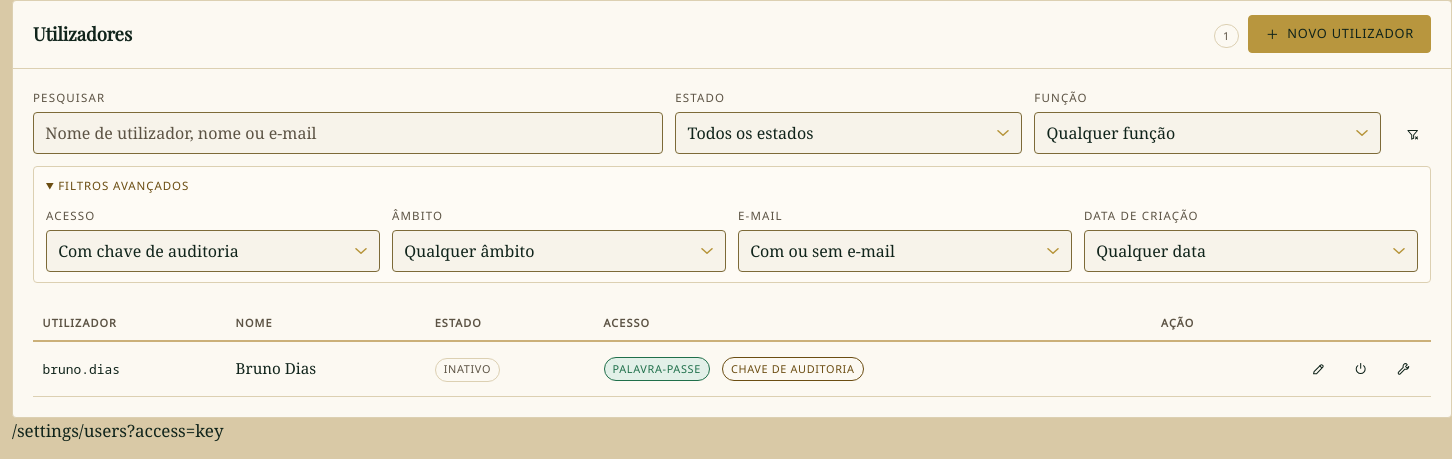
Scenario: UsersList filters (t89) — Arquivo idiom, state carried in the URL › filters on the credential facts the list payload can actually answer
Expected: the text "bruno.dias" is shown, [43,360,120,378]
Expected: the text "amelia.marques" is not shown
Select "Sem palavra-passe" in the dropdown labelled "Acesso" at coordinates (213, 251), box [46,230,380,272]
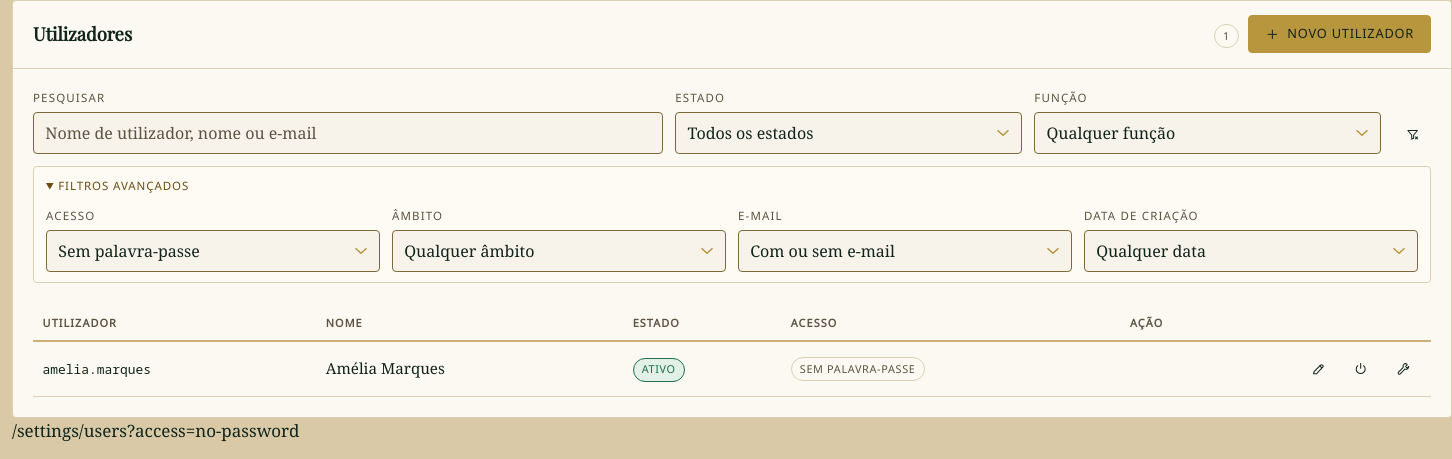
Now the text "amelia.marques" is shown, box [43,360,151,378]
Now the text "bruno.dias" is gone
Now the text named "location" reads "/settings/users?access=no-password", box [12,419,300,442]
Select "Com frase de recuperação" in the dropdown labelled "Acesso" at coordinates (213, 251), box [46,230,380,272]
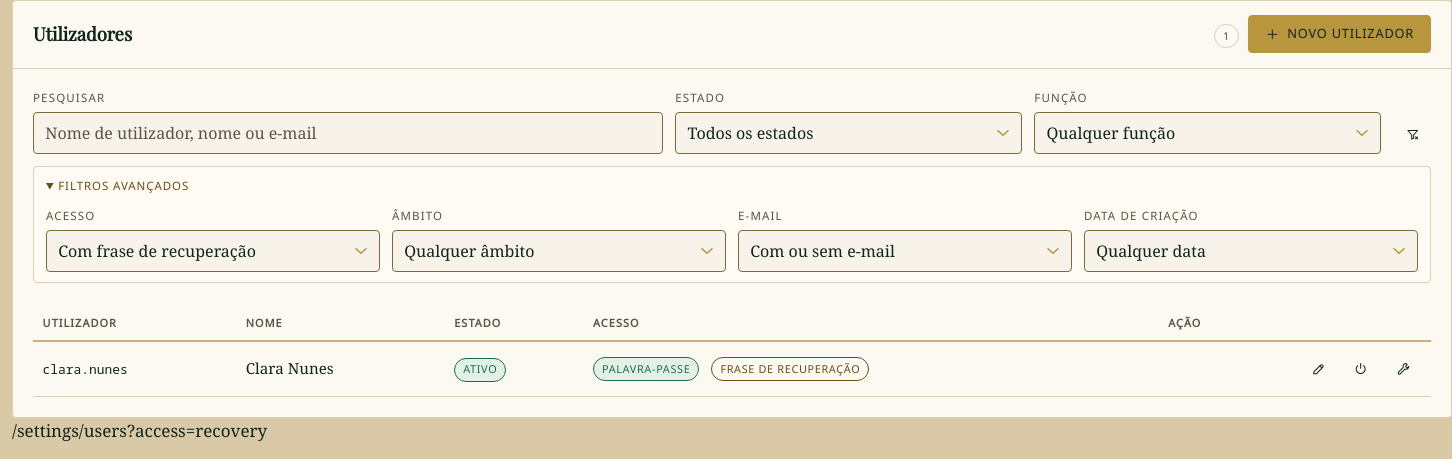
Now the text "clara.nunes" is shown, box [43,360,128,378]
Now the text "amelia.marques" is gone
